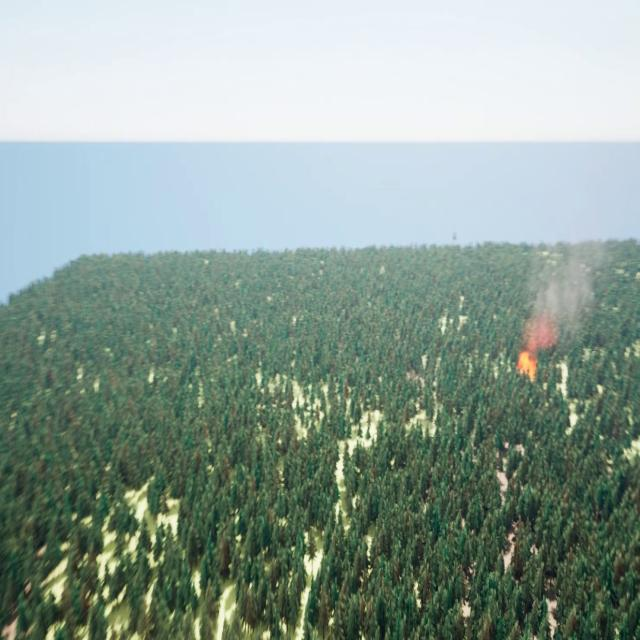fire: (514, 351, 540, 384)
smoke: (528, 232, 603, 351)
